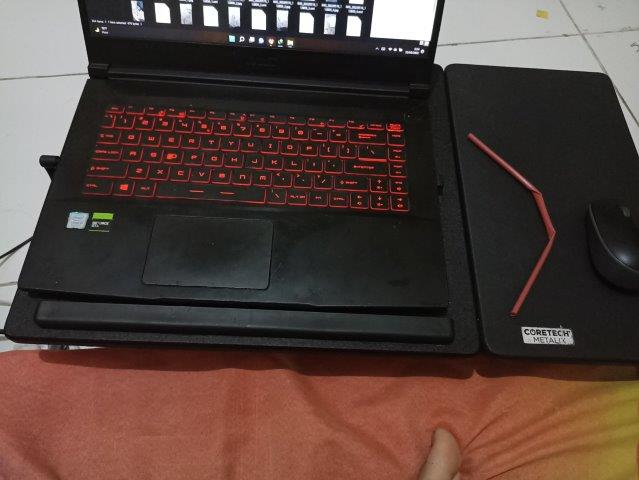sedotan: (469, 133, 556, 314)
